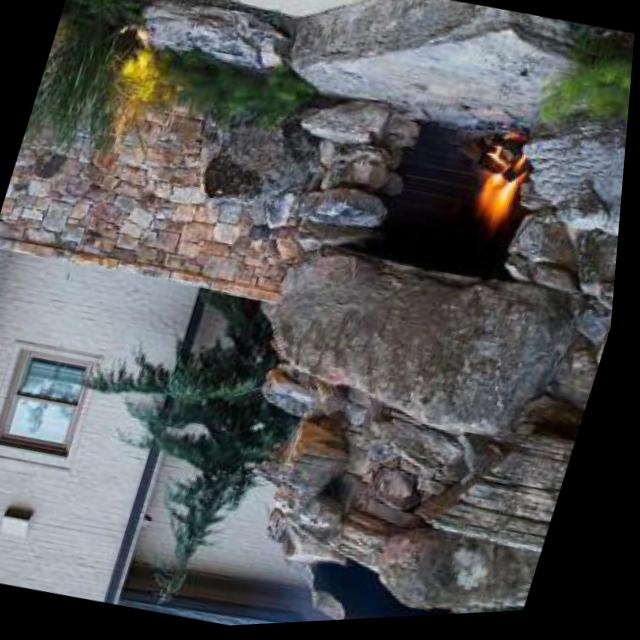Fire: (451, 134, 556, 260)
